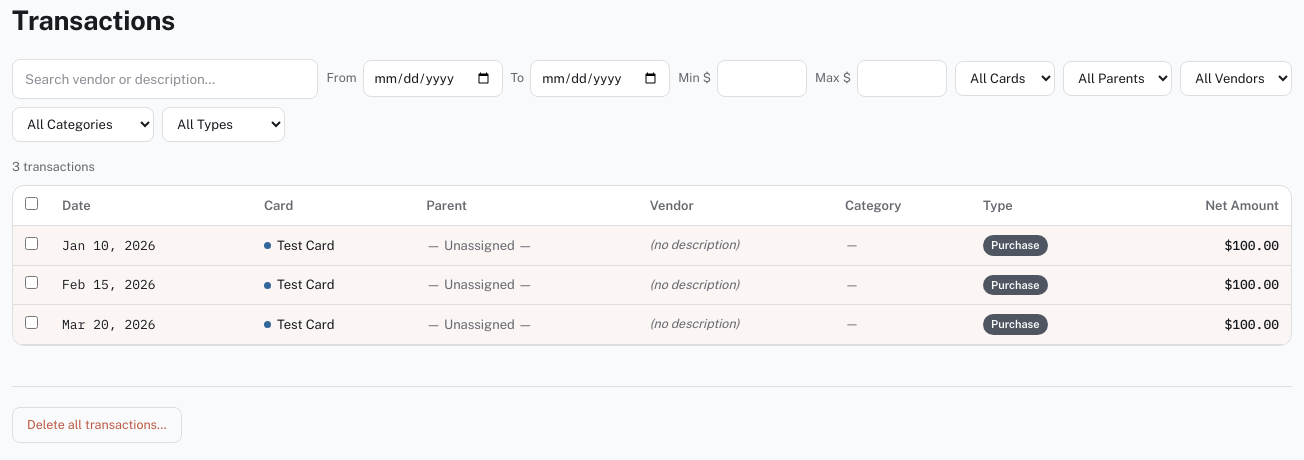
Test: Transactions date filter › keeps only transactions on or after the From date
In the date field labelled "From": [432, 79] box [362, 60, 502, 97], type "2026-02-01"
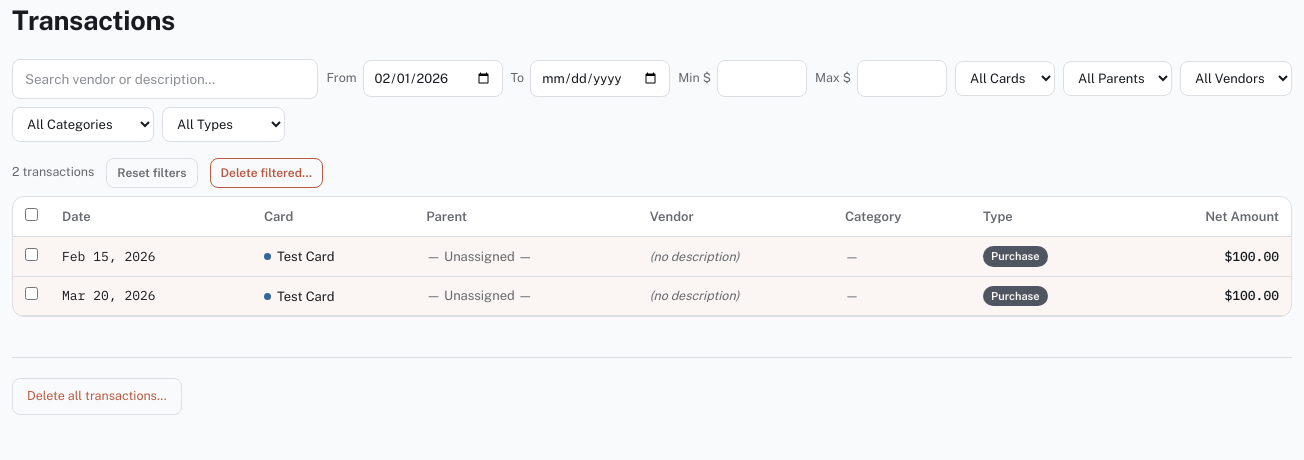
Check: the text "Feb 15, 2026" is shown, box [50, 237, 252, 276]
Check: the text "2 transactions" is shown, box [12, 163, 94, 182]
Check: the text "Jan 10, 2026" is gone
